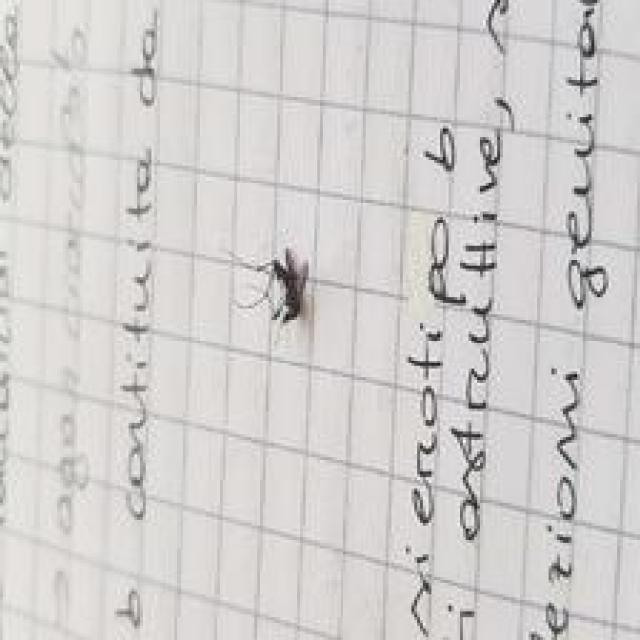Aedes albopictus: (233, 244, 310, 324)
